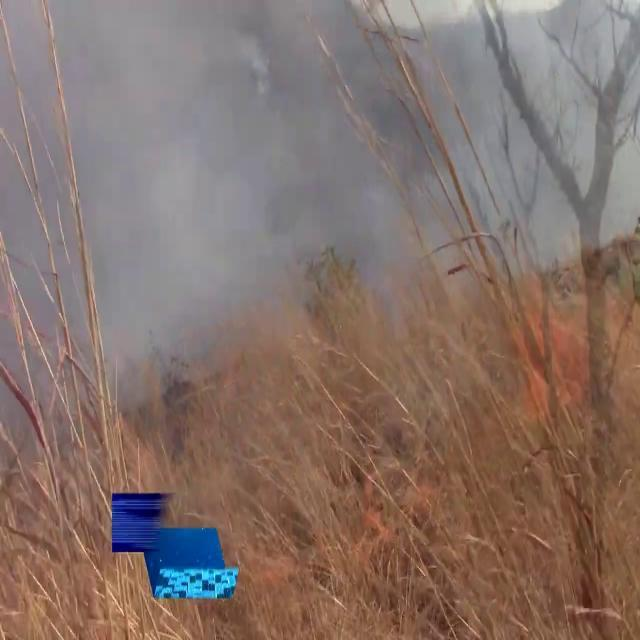Smoke: (69, 0, 640, 385)
